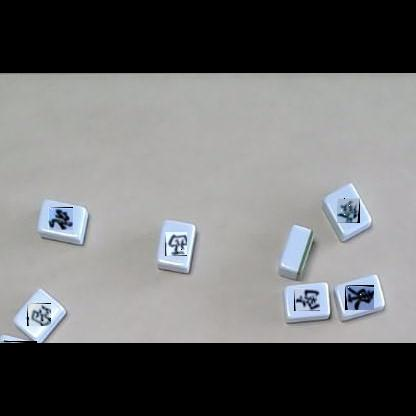1z: (345, 285, 374, 310)
2z: (294, 288, 320, 311)
3z: (27, 303, 51, 326), (165, 232, 187, 256)
4z: (48, 207, 73, 230)
5z: (0, 341, 37, 343)
6z: (337, 198, 360, 223)
